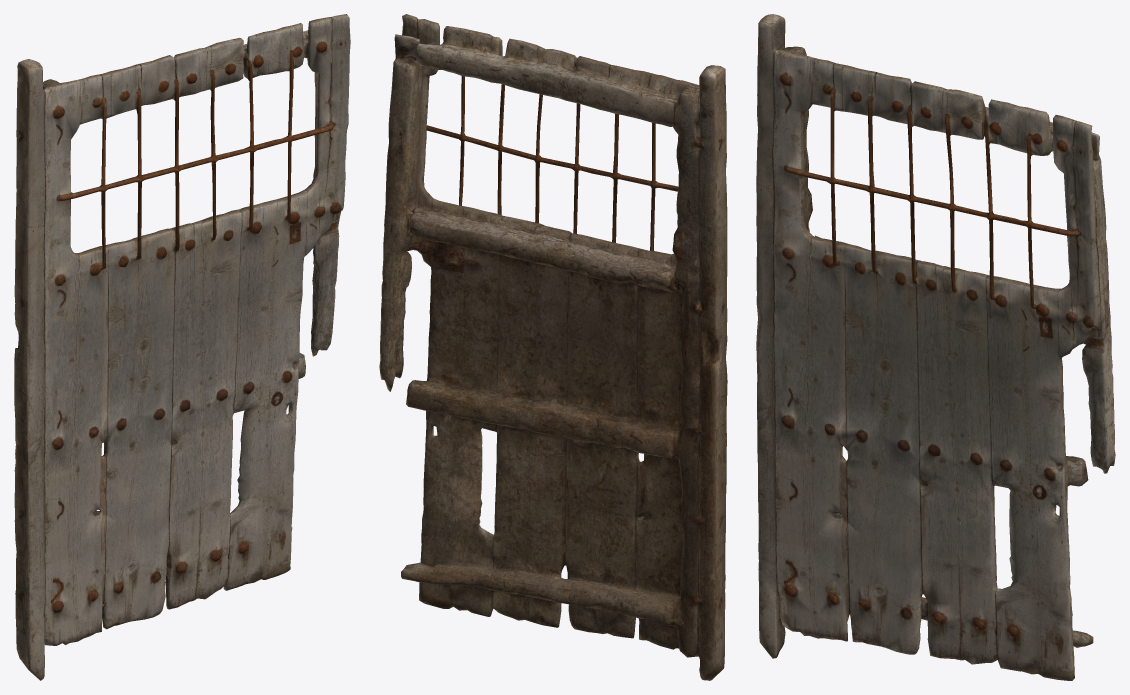
The picture shows the model from 3 angles, left to right: view 1: azimuth 30°, elevation 25°; view 2: azimuth 150°, elevation 25°; view 3: azimuth 330°, elevation 25°; orthographic projection. The views are drawn at different scales.
Visible parts, largest first — view 1: uflvddofa_LOD0_TIER2_000; view 2: uflvddofa_LOD0_TIER2_000; view 3: uflvddofa_LOD0_TIER2_000.
Boxes of the visible parts, <box> form: uflvddofa_LOD0_TIER2_000: <box>14,14,350,680</box>; uflvddofa_LOD0_TIER2_000: <box>379,14,727,680</box>; uflvddofa_LOD0_TIER2_000: <box>756,14,1115,680</box>.
Bounding box in the file's own units: 1.05 × 1.9 × 0.217.
1 material, 1 textured.
